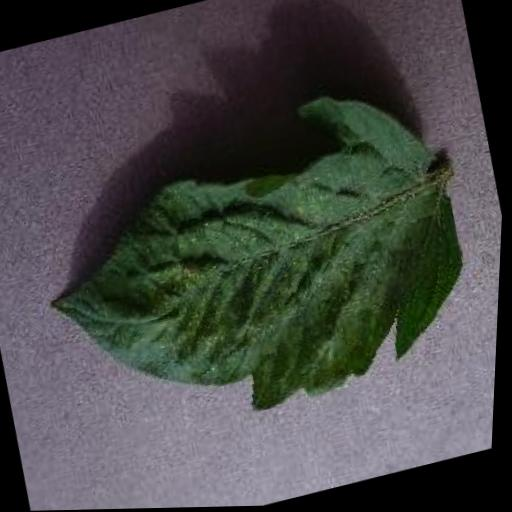Spider Mites: (18, 70, 493, 458)
